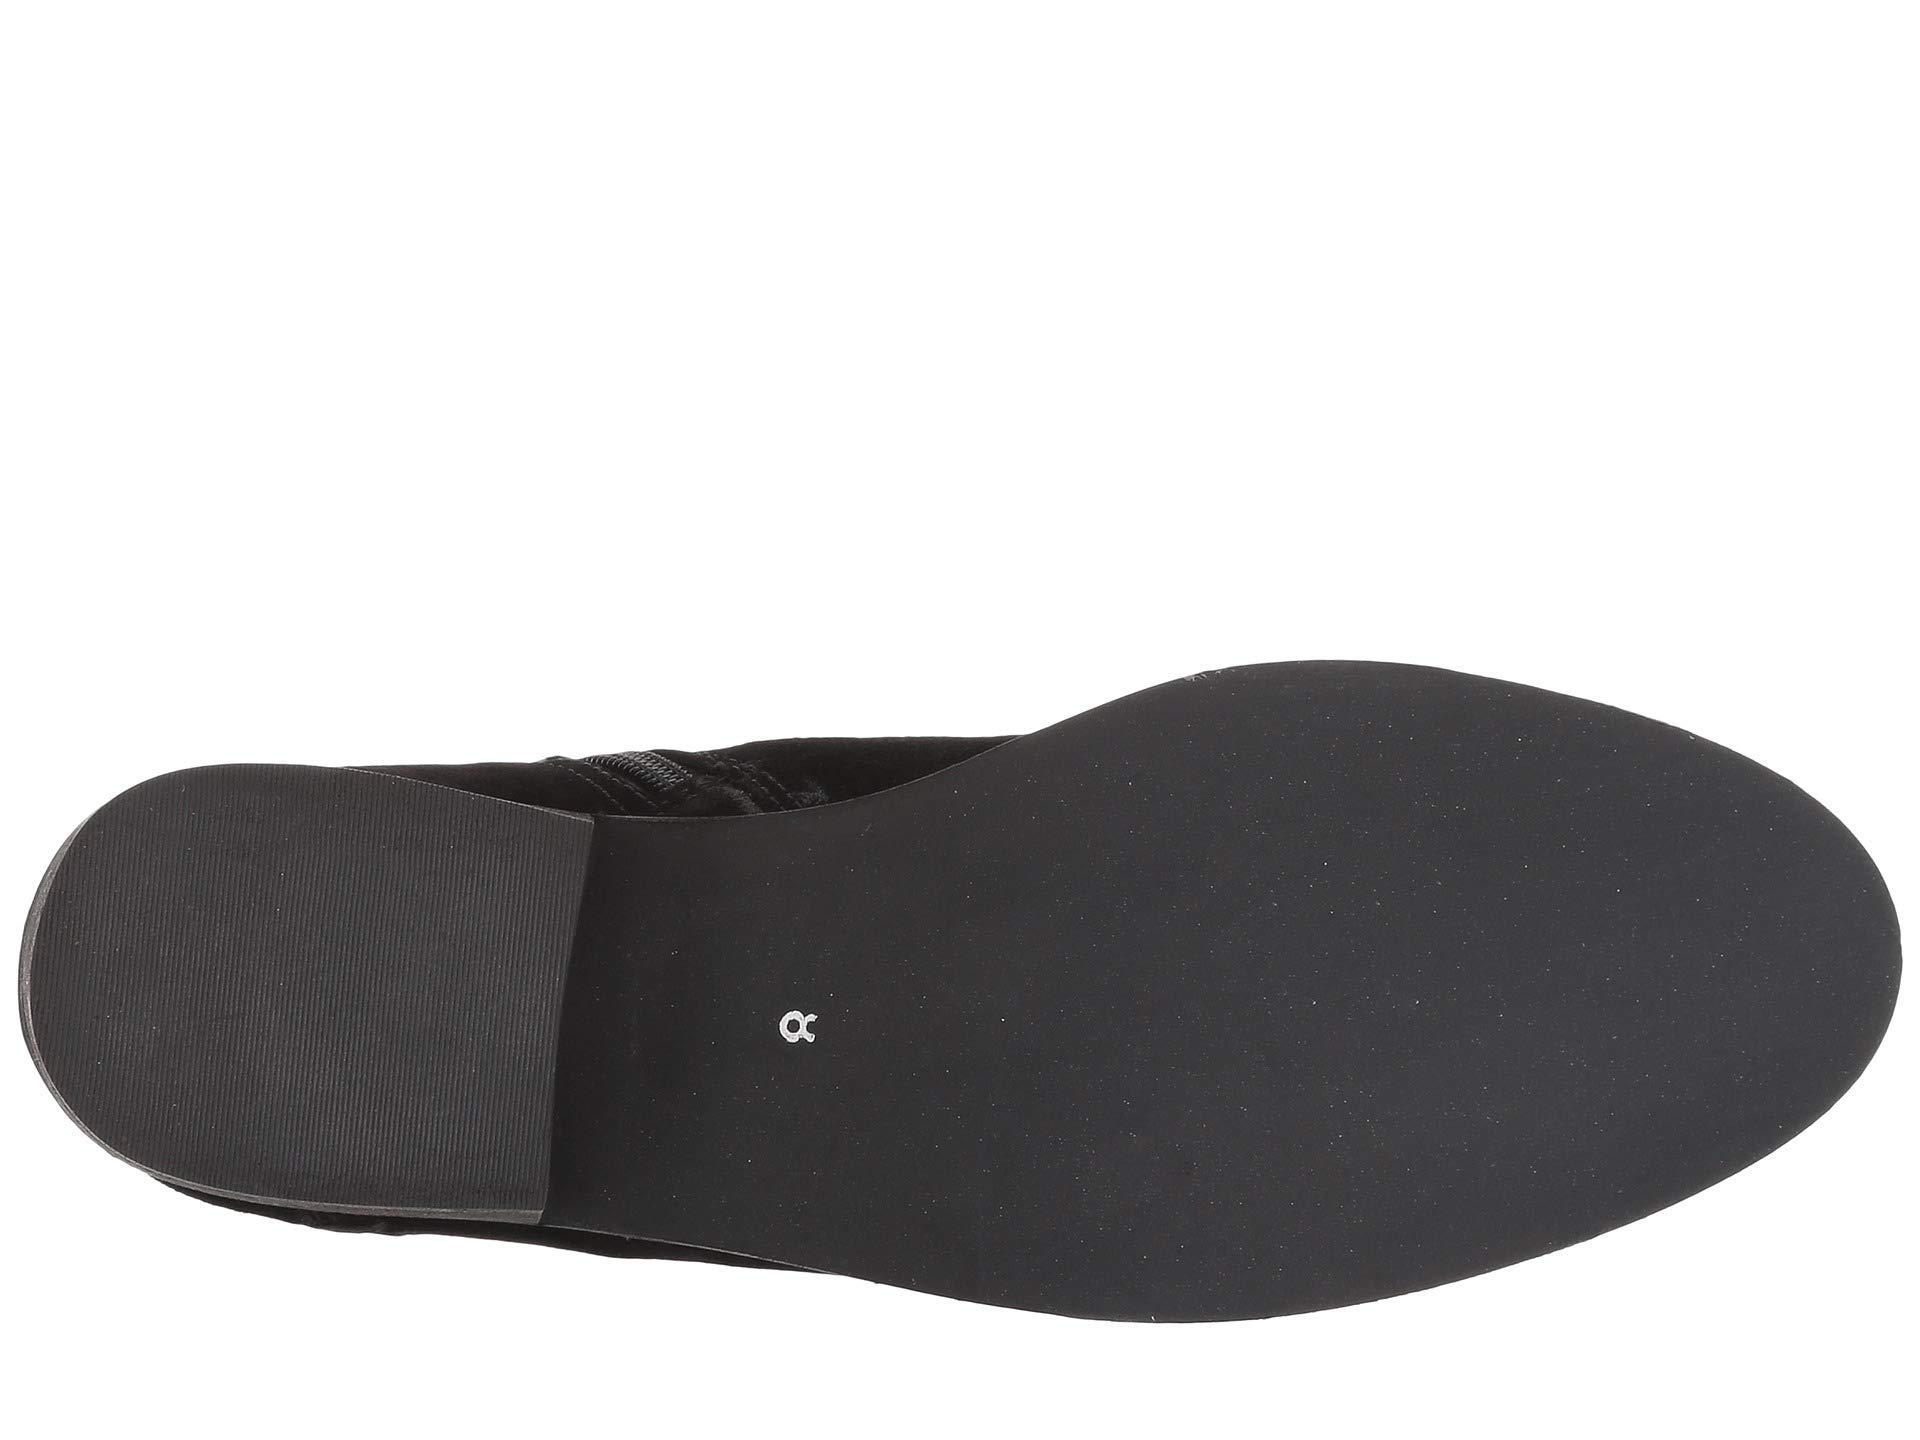line: (147, 827, 472, 1141)
